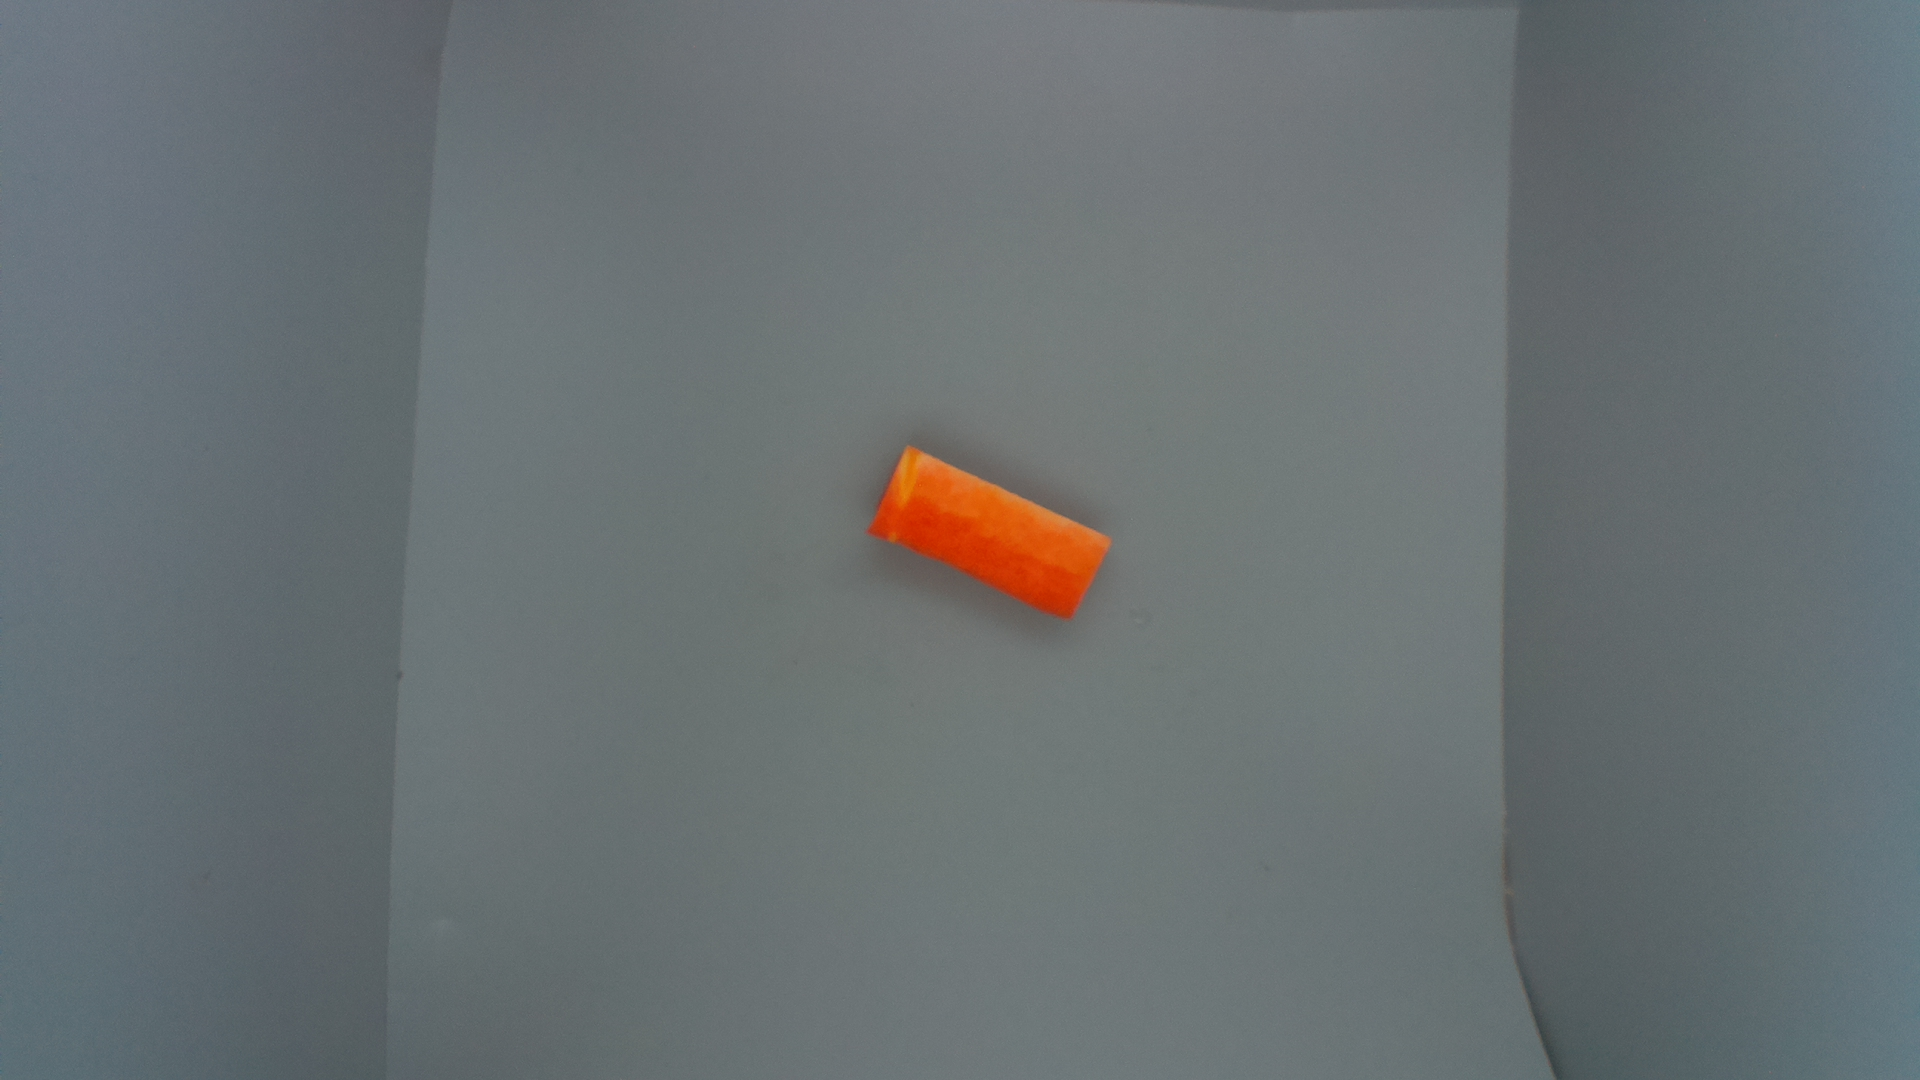carrot: (869, 443, 1117, 620)
